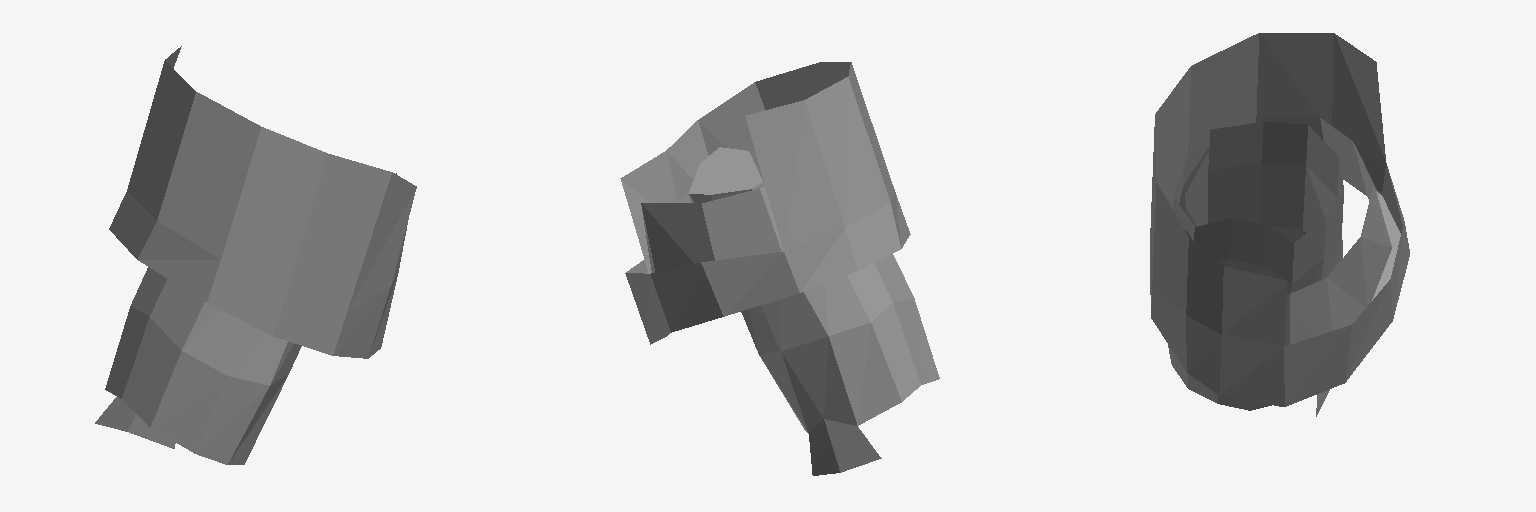
File: leftshoulder.obj
3 views of the same model, side by side, from view 1: azimuth 30°, elevation 25°; view 2: azimuth 150°, elevation 25°; view 3: azimuth 270°, elevation 25° (orthographic).
Visible parts, largest first — view 1: Patrick.004_Patrick.003; view 2: Patrick.004_Patrick.003; view 3: Patrick.004_Patrick.003.
Part boxes in pixels (x1,y1,x2,y2): Patrick.004_Patrick.003: (95, 46, 416, 464); Patrick.004_Patrick.003: (620, 62, 939, 475); Patrick.004_Patrick.003: (1150, 33, 1409, 416).
Bounding box in the file's own units: 0.1662 × 0.2115 × 0.1305.